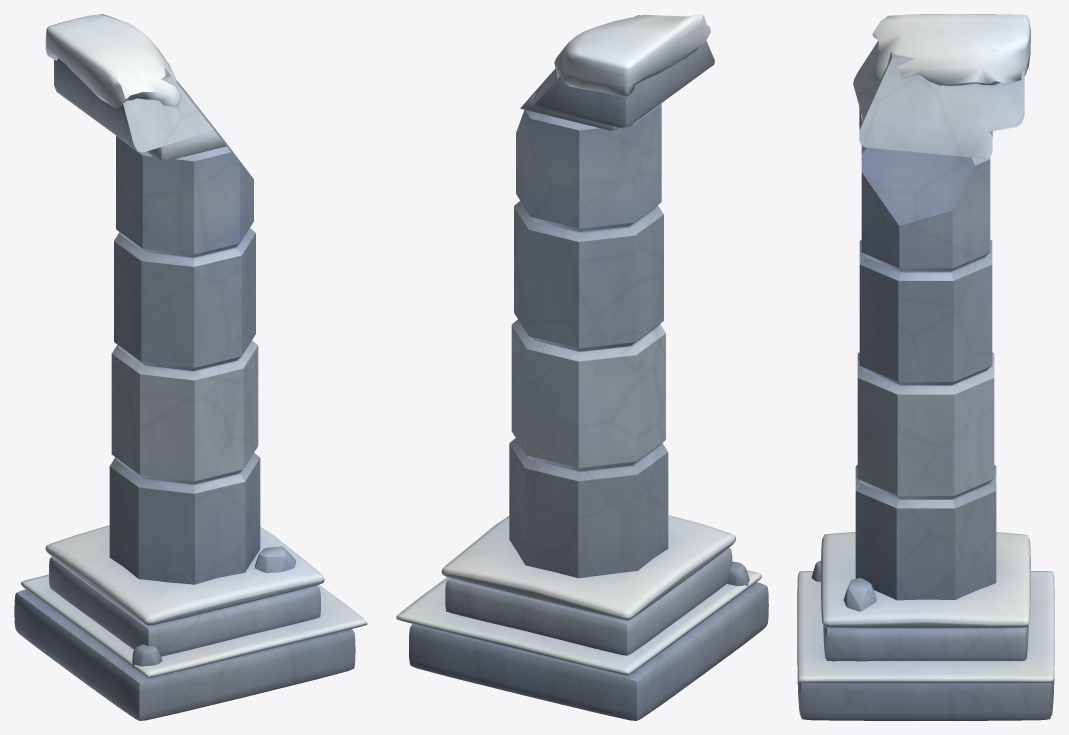
The model's file is FP_P10_BrokenPillar.fbx.
3 renders of one model, left to right at view 1: azimuth 30°, elevation 25°; view 2: azimuth 150°, elevation 25°; view 3: azimuth 270°, elevation 25°, orthographic. The views are drawn at different scales.
Visible parts, largest first — view 1: Pillar, Snow; view 2: Pillar, Snow; view 3: Pillar, Snow.
Boxes of the visible parts, bbox=[...] form: Pillar: bbox=[14, 58, 355, 720]; Snow: bbox=[21, 14, 367, 678]; Pillar: bbox=[409, 15, 768, 720]; Snow: bbox=[396, 14, 761, 675]; Pillar: bbox=[797, 41, 1054, 720]; Snow: bbox=[797, 14, 1054, 683].
Size of the model in its own units: 1.25 by 3.17 by 1.2.
